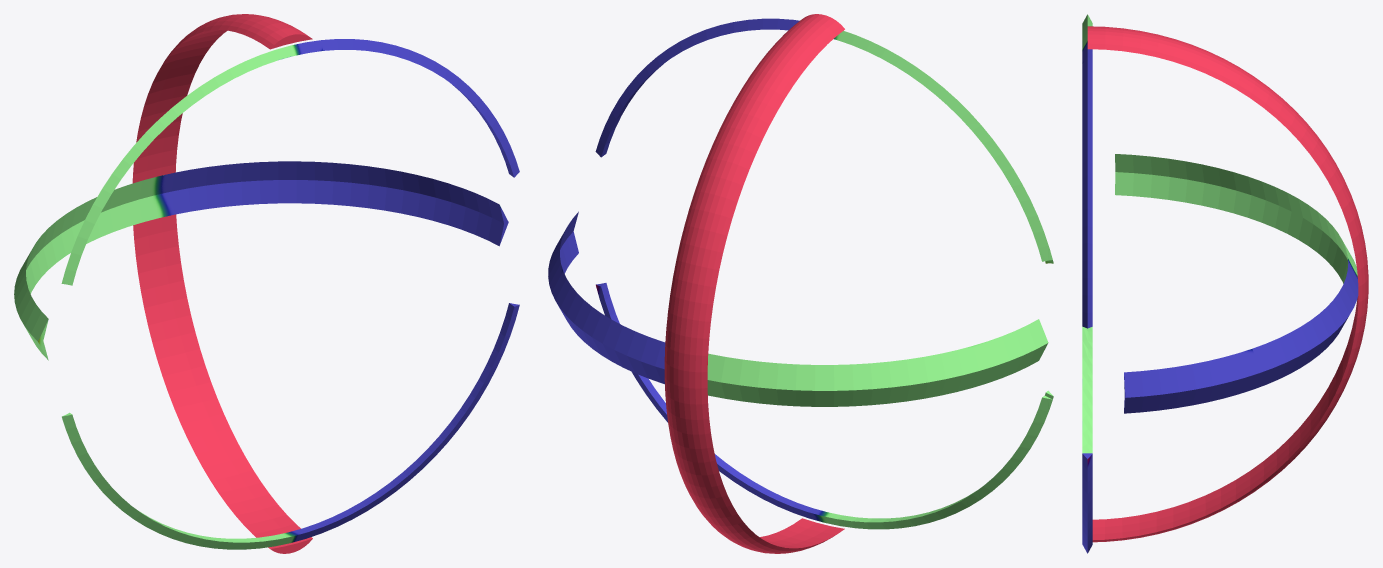
3 views of the same model, side by side, from view 1: azimuth 30°, elevation 25°; view 2: azimuth 150°, elevation 25°; view 3: azimuth 270°, elevation 25° (orthographic).
Parts seen in each view (by area): view 1: 20140325_boundingBox2; view 2: 20140325_boundingBox2; view 3: 20140325_boundingBox2.
Boxes of the visible parts, x1,y1,x2,y2 form: 20140325_boundingBox2: (14, 14, 519, 553); 20140325_boundingBox2: (548, 14, 1053, 553); 20140325_boundingBox2: (1082, 14, 1368, 553).
Size of the model in its own units: 17.57 by 18.28 by 9.3.
1 material, 1 textured.
